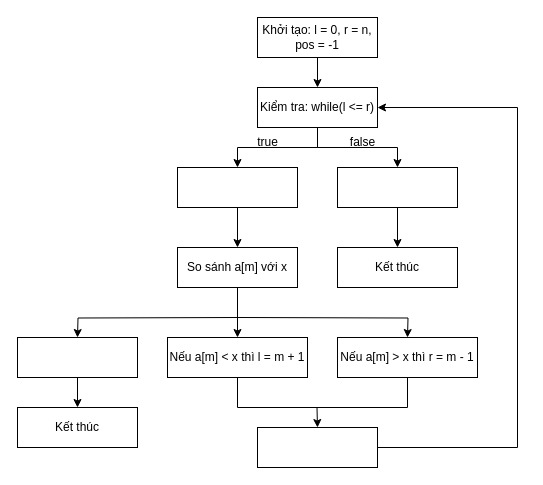
The diagram is 543 pixels wide and 485 high, and some of its shapes have lost their labels. Each missing label, with the box of its shape:
Kết luận: không tìm thấy x: (336, 166, 458, 208)
Nếu a[m] = x thì lưu lại vị trí pos = m và kết thúc: (16, 336, 138, 378)
Quay lại bước kiểm tra while(l <=r): (256, 426, 378, 468)
Tính m = (l + r) / 2: (176, 166, 298, 208)
